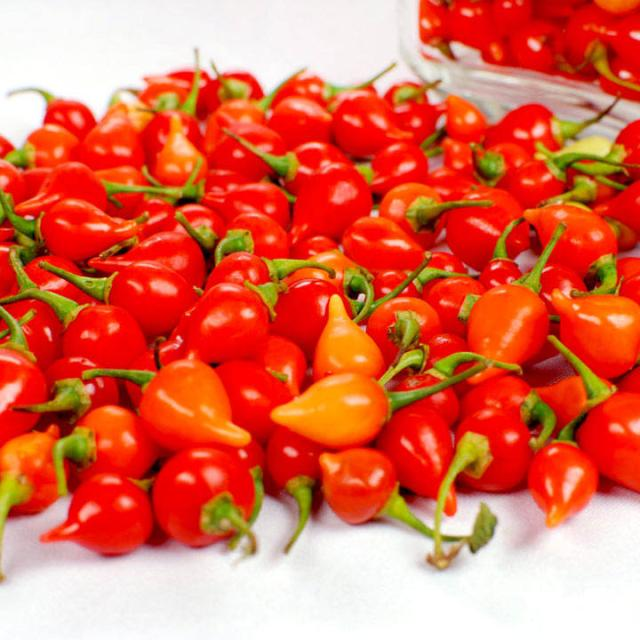Chilli Pepper: (146, 447, 277, 557), (433, 397, 541, 526), (372, 397, 481, 523), (265, 366, 407, 458), (73, 246, 190, 346), (123, 358, 242, 453), (452, 274, 546, 394), (55, 293, 159, 398), (302, 442, 417, 536), (170, 274, 274, 374), (547, 275, 640, 381), (562, 375, 640, 501), (272, 268, 371, 366), (52, 470, 167, 552), (272, 163, 383, 245), (439, 178, 526, 279), (198, 74, 292, 165), (198, 114, 301, 190), (59, 401, 158, 478), (28, 194, 146, 258), (530, 196, 620, 278), (266, 419, 341, 516), (483, 96, 581, 170), (336, 77, 409, 172), (262, 140, 362, 207), (28, 90, 122, 159), (336, 212, 426, 284), (81, 96, 145, 185), (532, 446, 596, 528), (148, 97, 212, 175), (266, 83, 338, 150), (374, 298, 444, 360), (435, 86, 491, 152)
